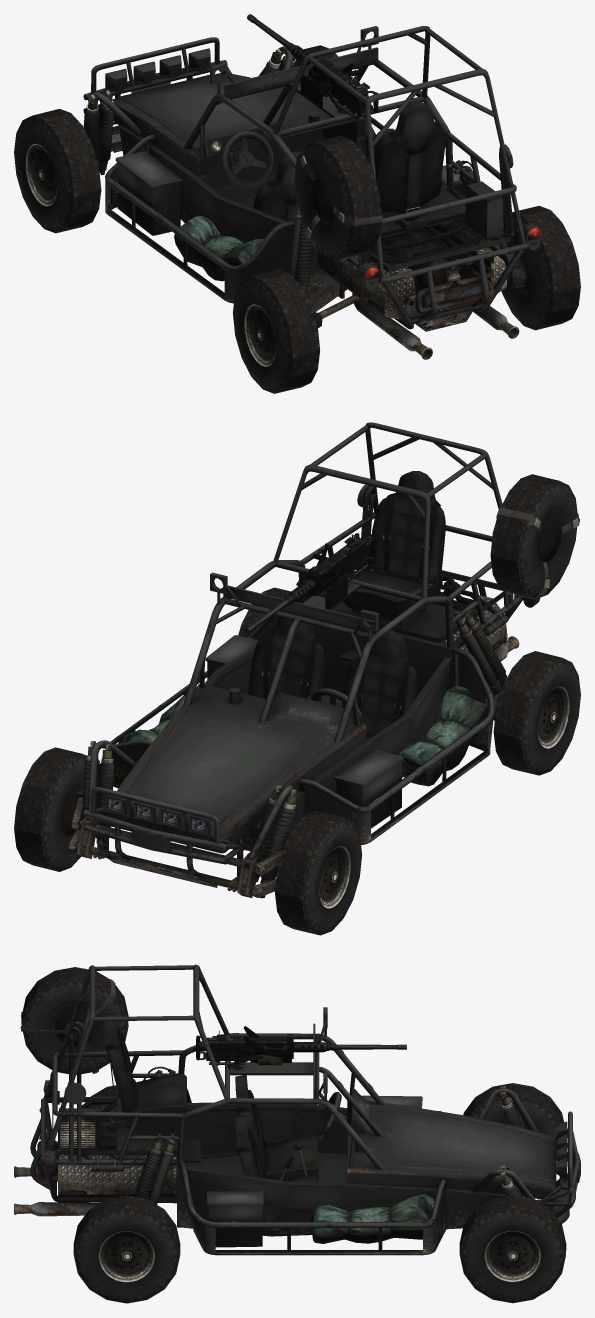
File: dpv.obj
3 renders of one model, top to bottom at view 1: azimuth 30°, elevation 25°; view 2: azimuth 150°, elevation 25°; view 3: azimuth 270°, elevation 25°, orthographic. The views are drawn at different scales.
Visible parts, largest first — view 1: Mesh_0020, Mesh_0019; view 2: Mesh_0020, Mesh_0019; view 3: Mesh_0020, Mesh_0019.
Part boxes in pixels (x1,y1,x2,y2): Mesh_0020: [14, 26, 580, 393]; Mesh_0019: [247, 14, 378, 116]; Mesh_0020: [14, 422, 580, 935]; Mesh_0019: [244, 533, 375, 633]; Mesh_0020: [14, 964, 580, 1303]; Mesh_0019: [192, 1026, 406, 1069].
Bounding box in the file's own units: 228 × 210 × 427.
2 materials, 2 textured.
